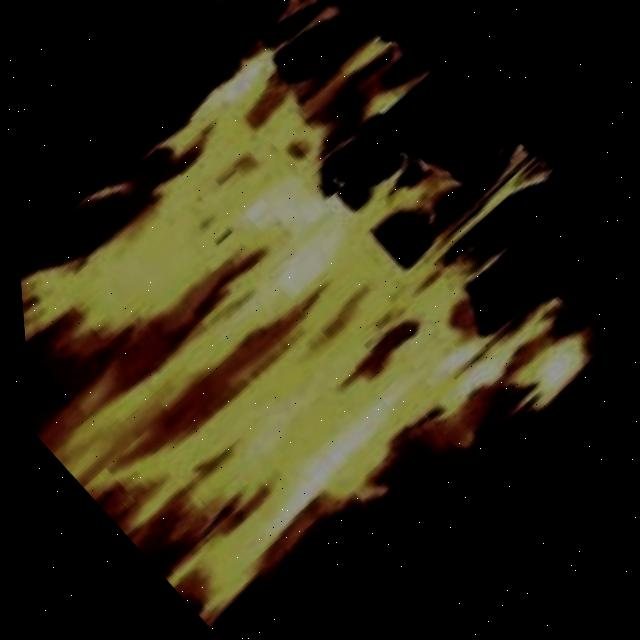Fire: (3, 15, 607, 640)
